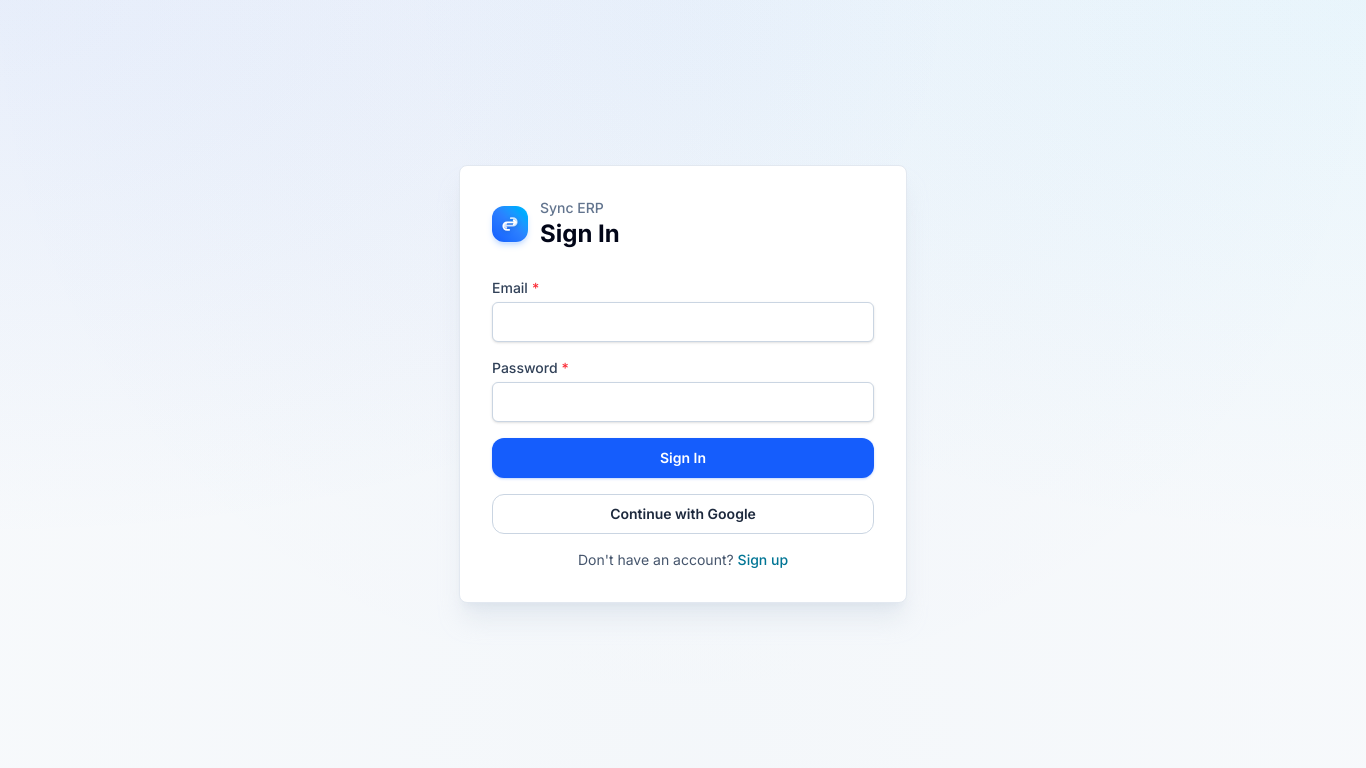
Scenario: LoginPage › Form Submission › shows loading state during submission
Type "test@example.com" into the field labelled "Email*" at (683, 322), box [492,302,874,342]
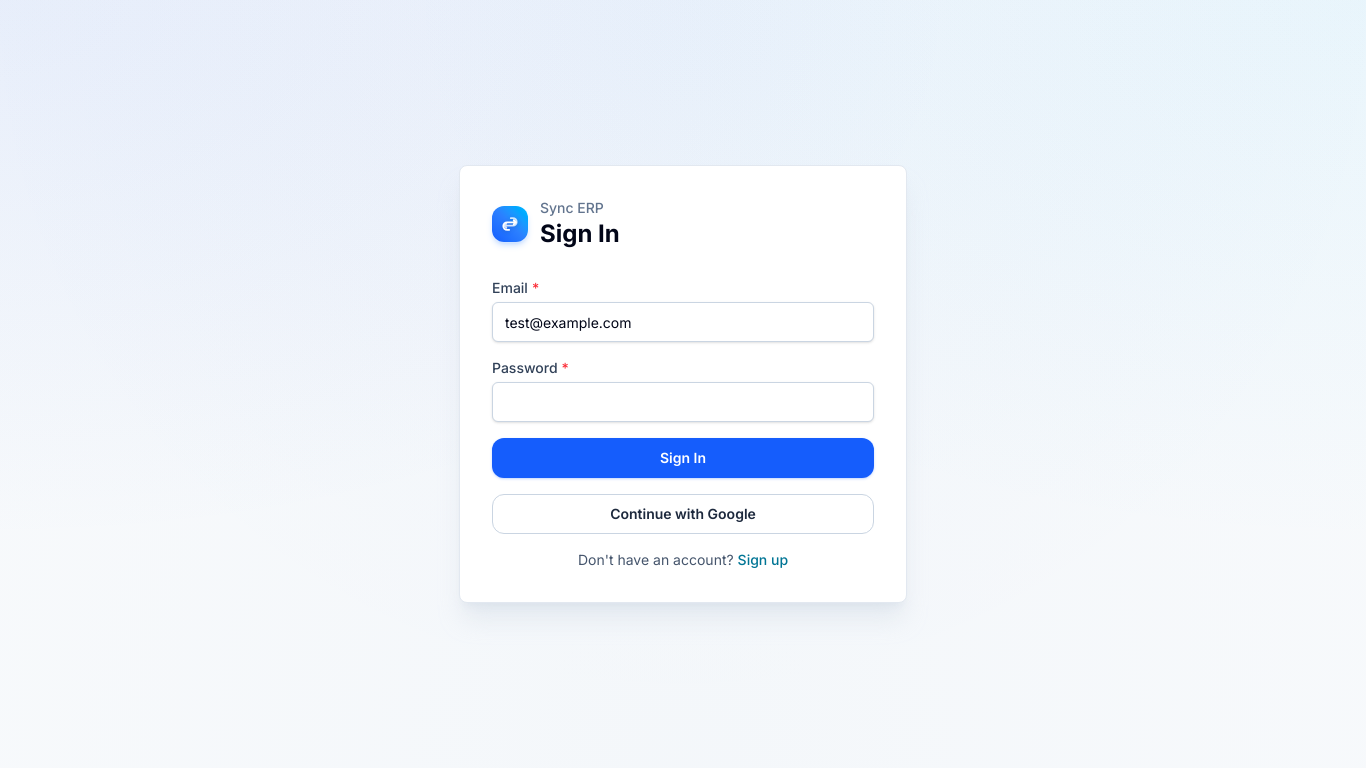
Type "password123" into the password field labelled "Password*" at (683, 402), box [492,382,874,422]
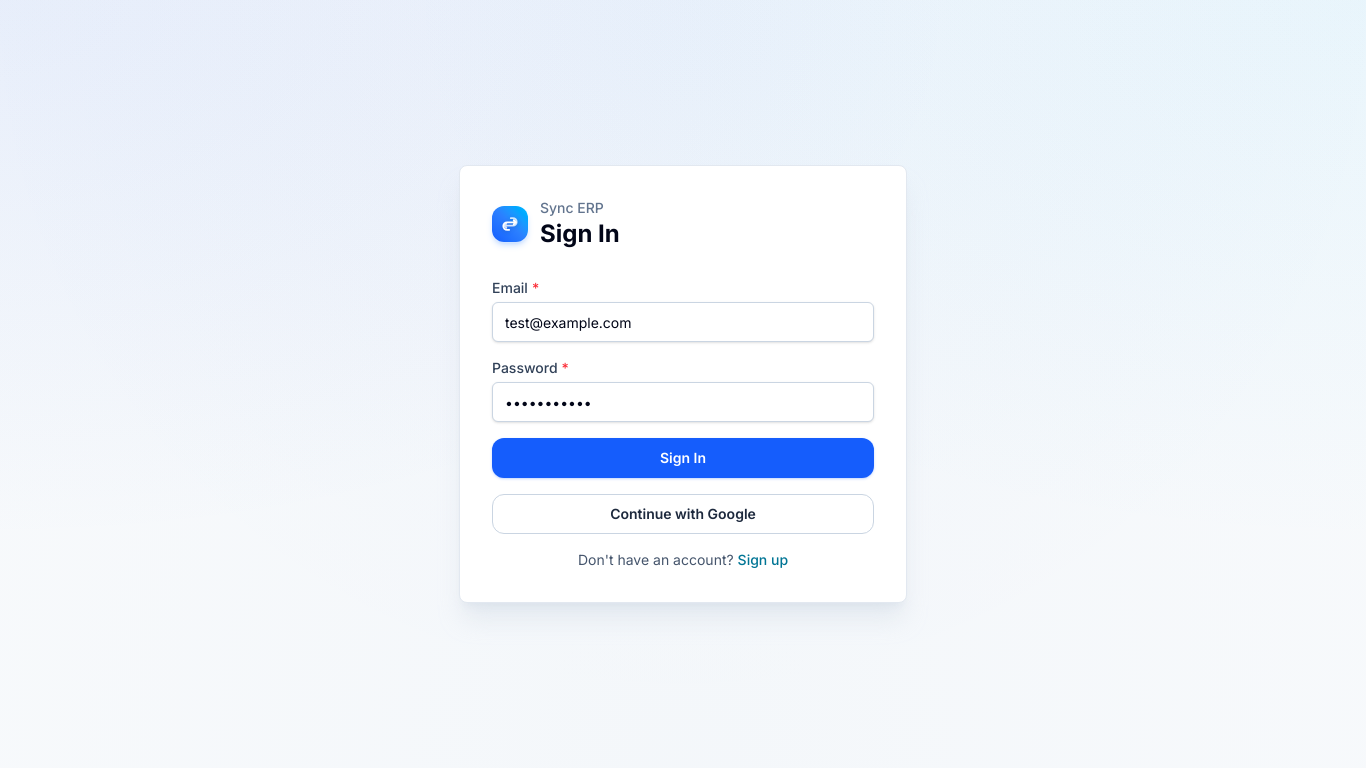
Click the button "Sign In" at (683, 458), box [492,438,874,478]
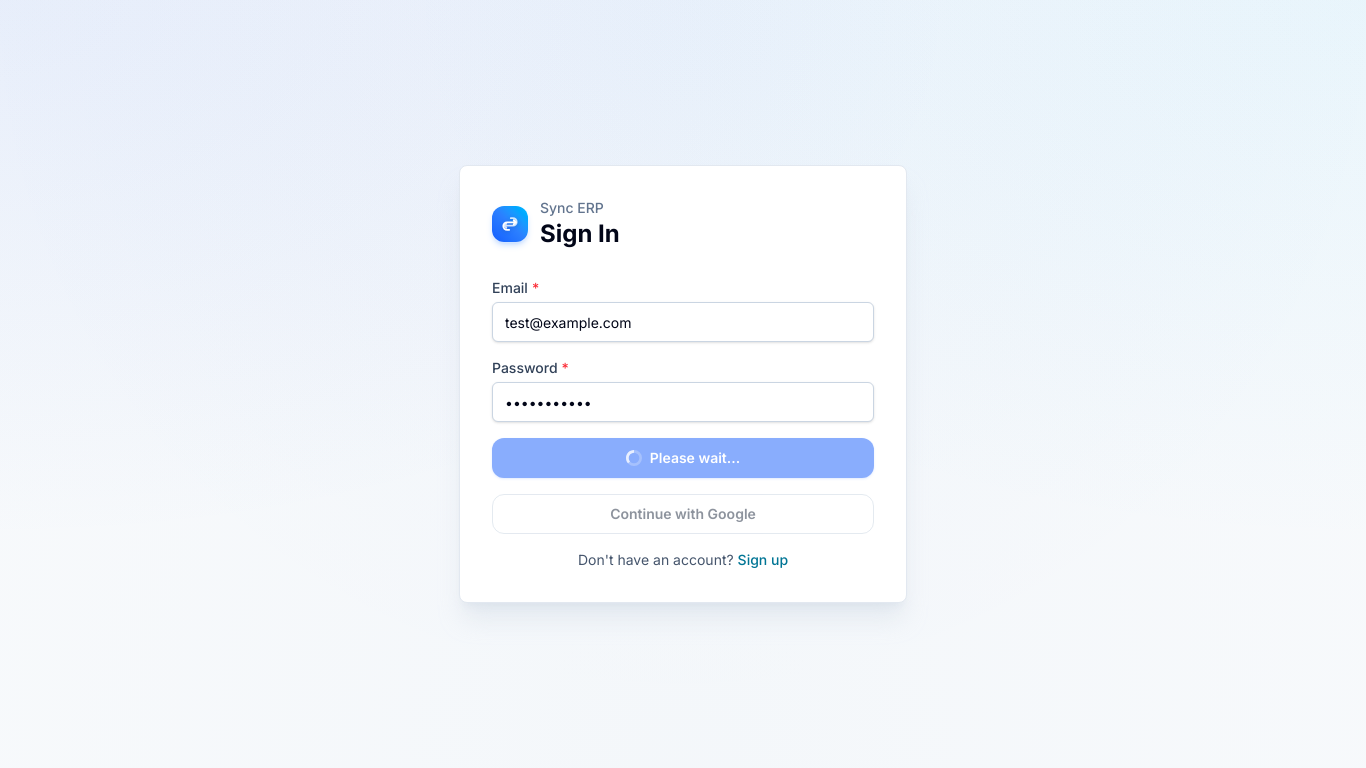
Expected: the button "Please wait..." is shown, [492,438,874,478]
